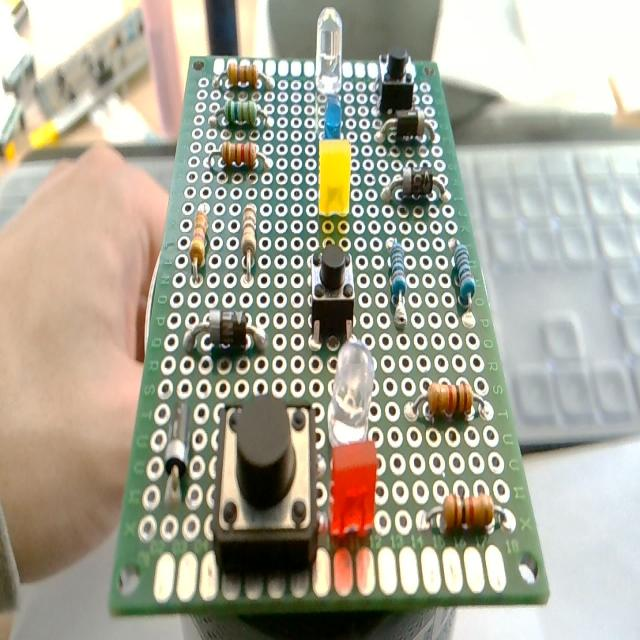diode: (184, 309, 268, 353), (162, 404, 190, 506), (382, 167, 448, 205), (375, 112, 434, 145)
led: (327, 440, 380, 539), (328, 340, 374, 444), (315, 6, 344, 97), (318, 139, 351, 216), (321, 94, 345, 140)
resistor: (406, 380, 491, 425), (425, 491, 506, 536), (450, 237, 478, 317), (385, 237, 407, 330), (211, 143, 270, 173), (213, 103, 271, 132), (220, 60, 272, 90), (241, 202, 257, 284), (190, 208, 208, 271)
switch: (211, 394, 319, 570), (312, 242, 356, 341), (377, 46, 415, 114)
